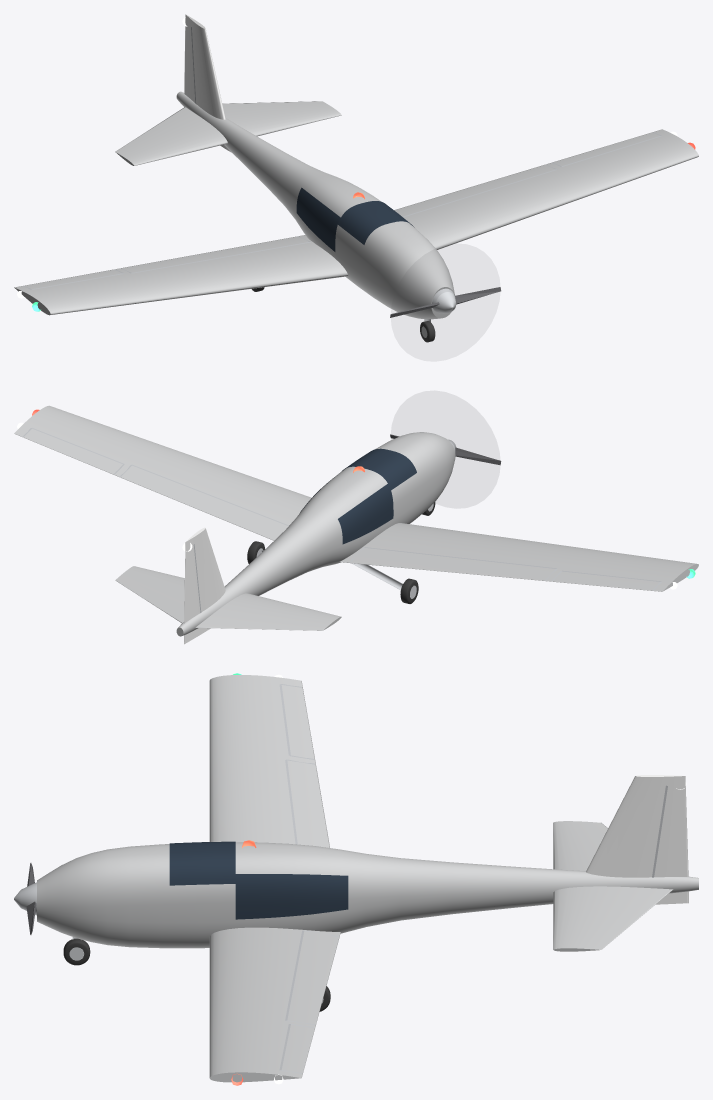
The picture shows the model from 3 angles, top to bottom: view 1: azimuth 30°, elevation 25°; view 2: azimuth 150°, elevation 25°; view 3: azimuth 270°, elevation 25°; orthographic projection. The views are drawn at different scales.
Visible parts, largest first — view 1: airframe, prop; view 2: airframe, gear; view 3: airframe, gear.
Boxes of the visible parts, box(x1,y1,x2,y2) form: airframe: box(14, 14, 698, 319); prop: box(390, 287, 501, 317); airframe: box(14, 405, 698, 644); gear: box(247, 502, 435, 603); airframe: box(14, 673, 698, 1085); gear: box(63, 937, 330, 1011).
Size of the model in its own units: 11.02 by 2.48 by 7.87.
